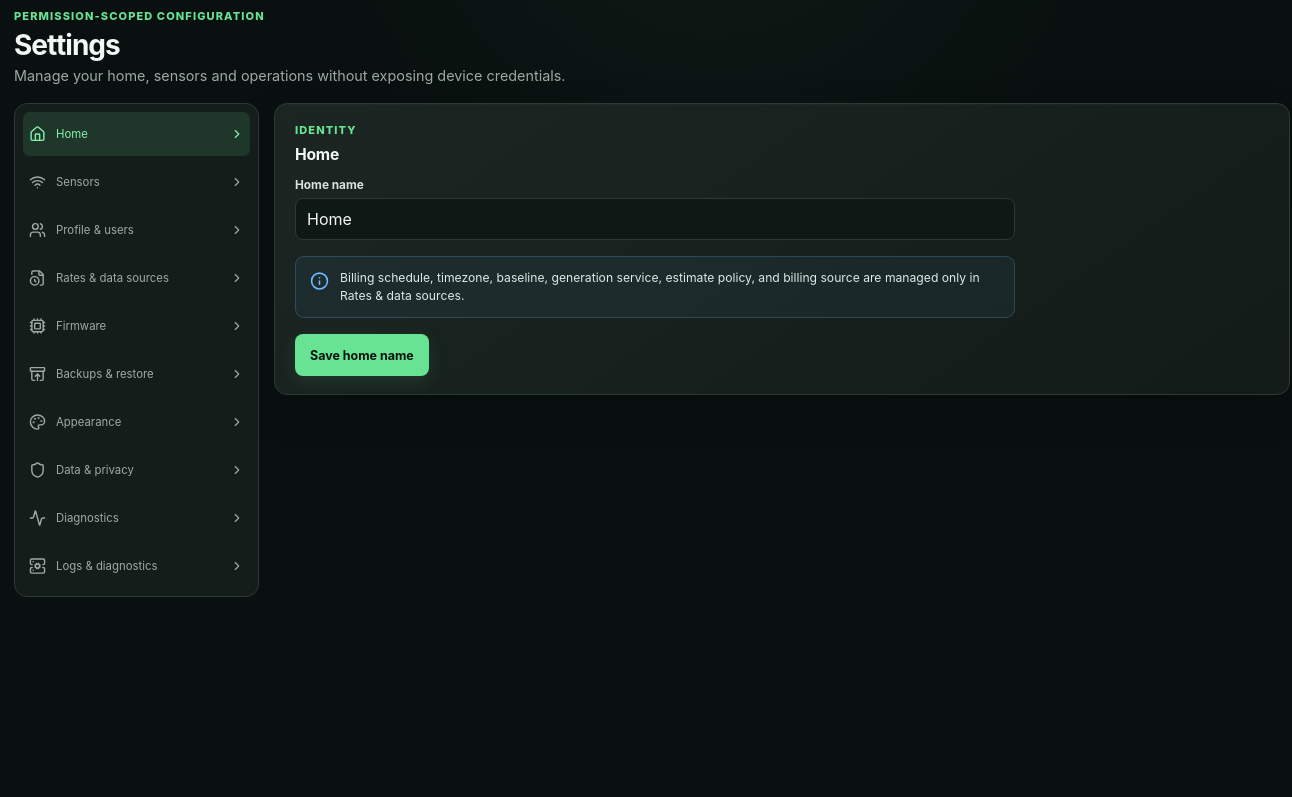
Test case: Settings › keeps every mutable billing control only in Rates and data sources
Check: the field labelled "Home name" is shown, box x1=295 y1=198 x2=1015 y2=240
Click the button "Sensors": coordinates (136, 182) x1=23 y1=160 x2=250 y2=204
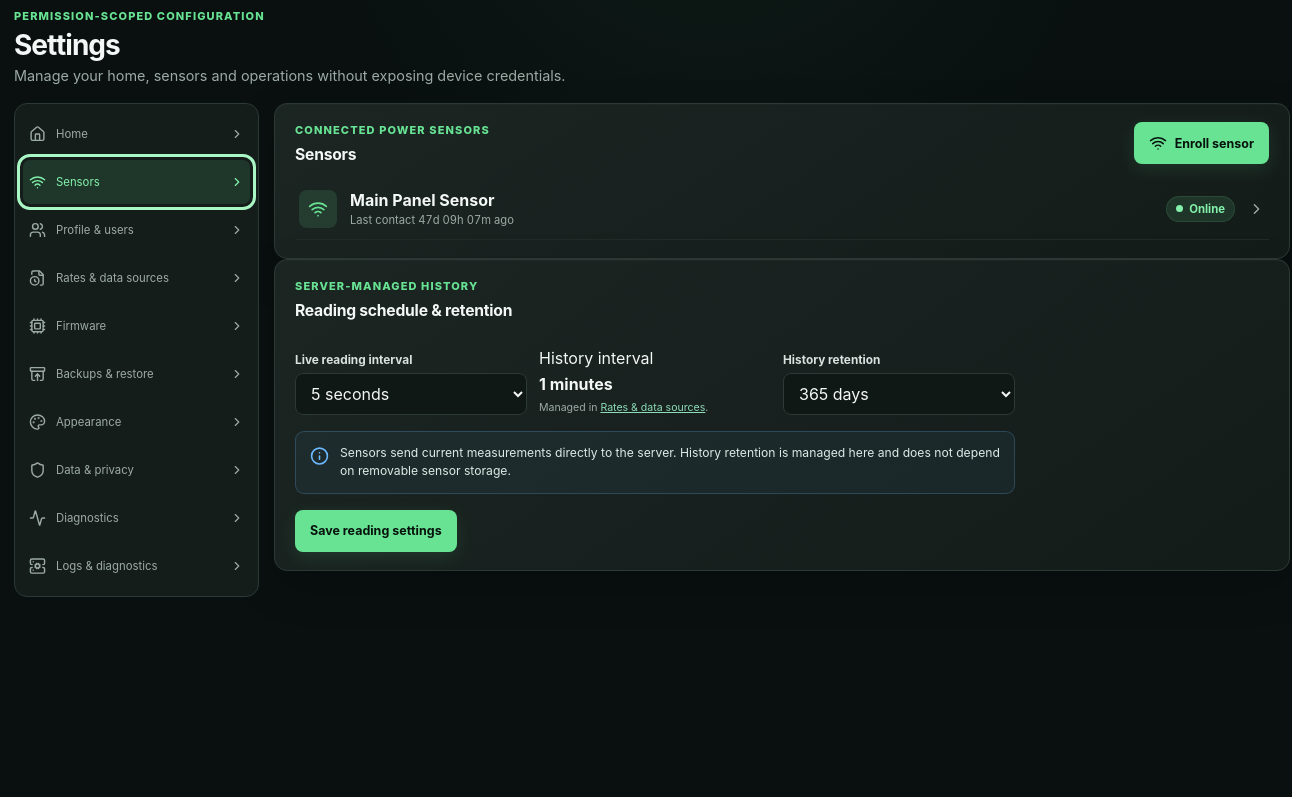
Check: the heading "Sensors" is shown, box x1=295 y1=145 x2=356 y2=164
Check: the text "Managed in Rates & data sources ." is shown, box x1=539 y1=401 x2=708 y2=414
Click the button "Rates & data sources": coordinates (136, 278) x1=23 y1=256 x2=250 y2=300
(page scrolled)
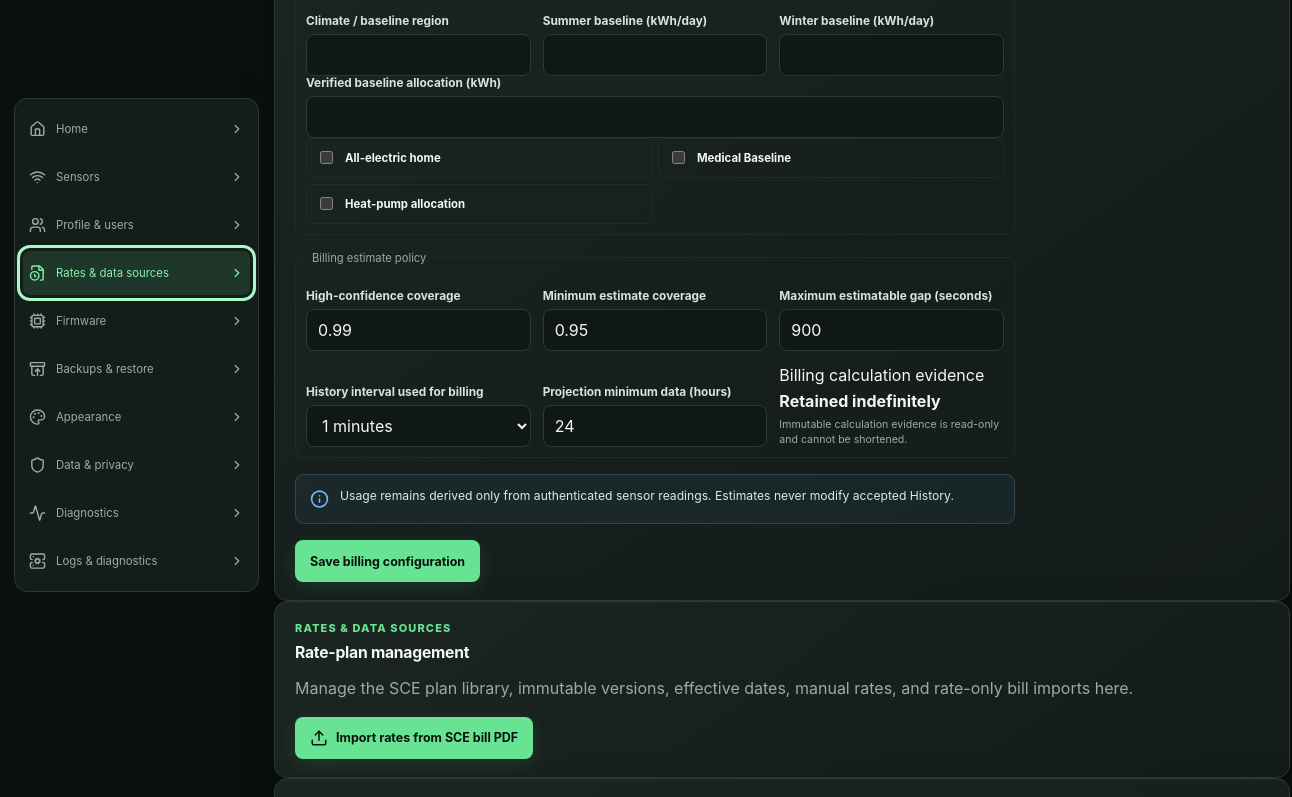
Check: the text "Retained indefinitely" is shown, box x1=779 y1=391 x2=940 y2=411
